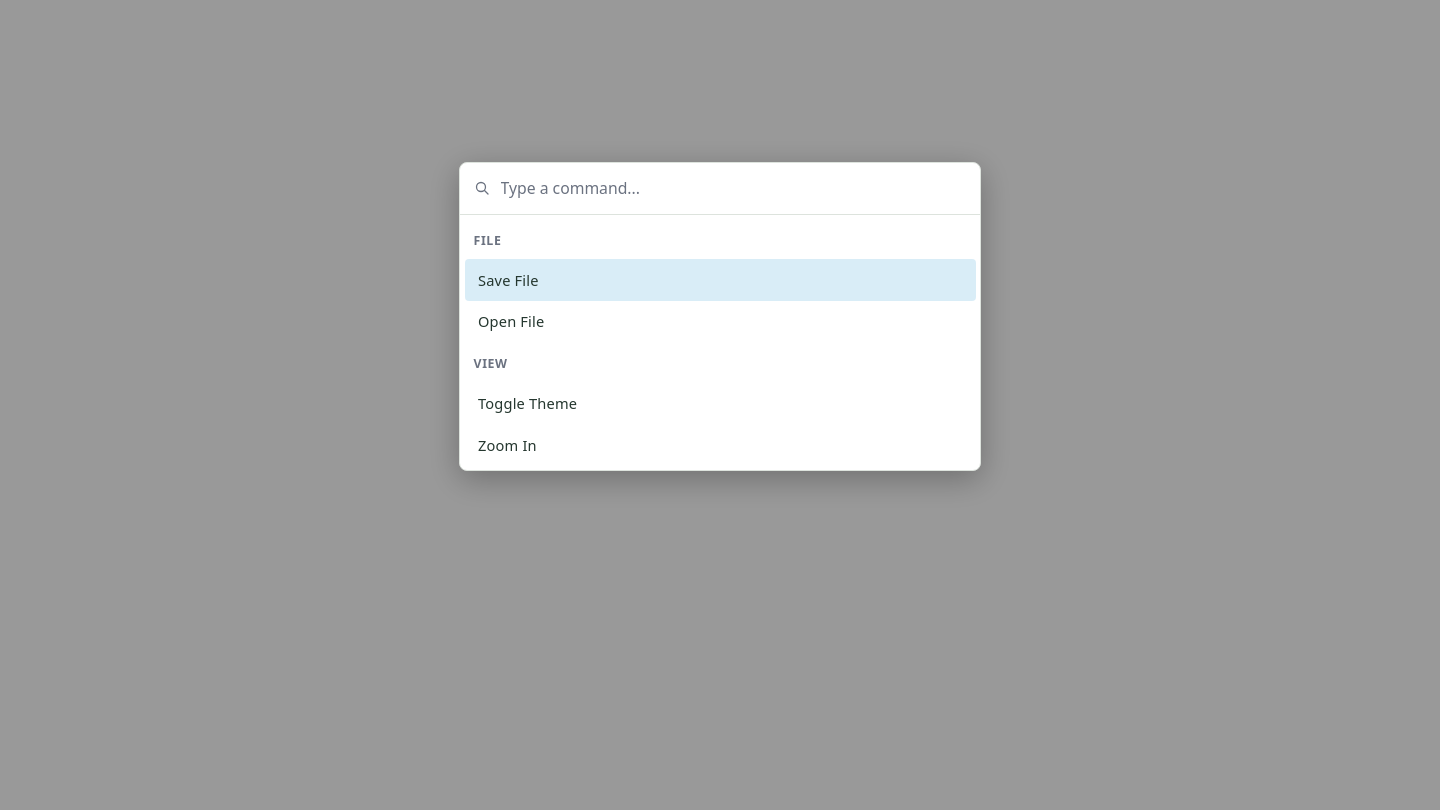
Scenario: CommandPalette › shows empty state when no commands match
This screenshot has width=1440, height=810.
In the dropdown: (732, 188) [498,174,966,202], type "xyznotfound"
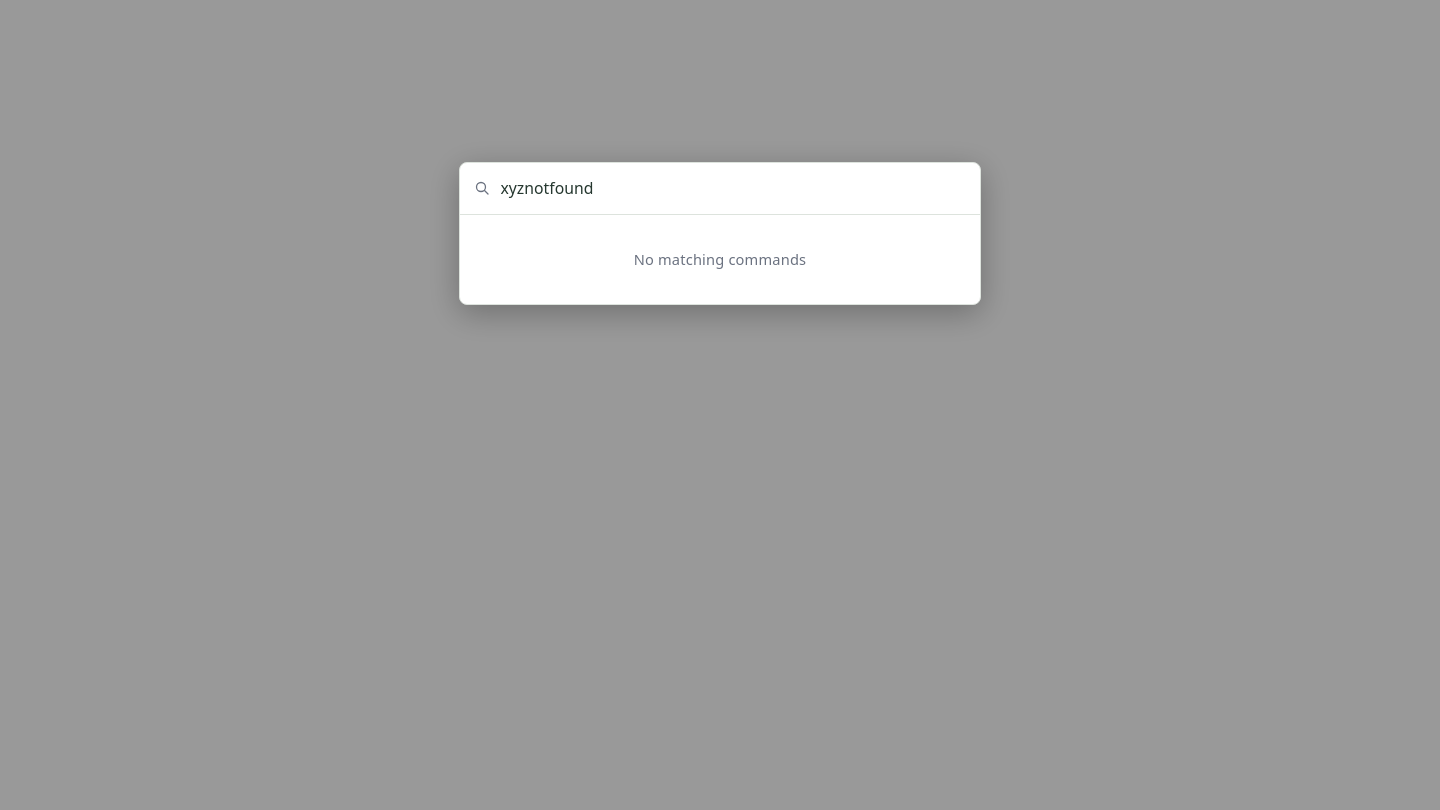
Check: the text "No matching commands" is shown, box [634,249,806,269]
